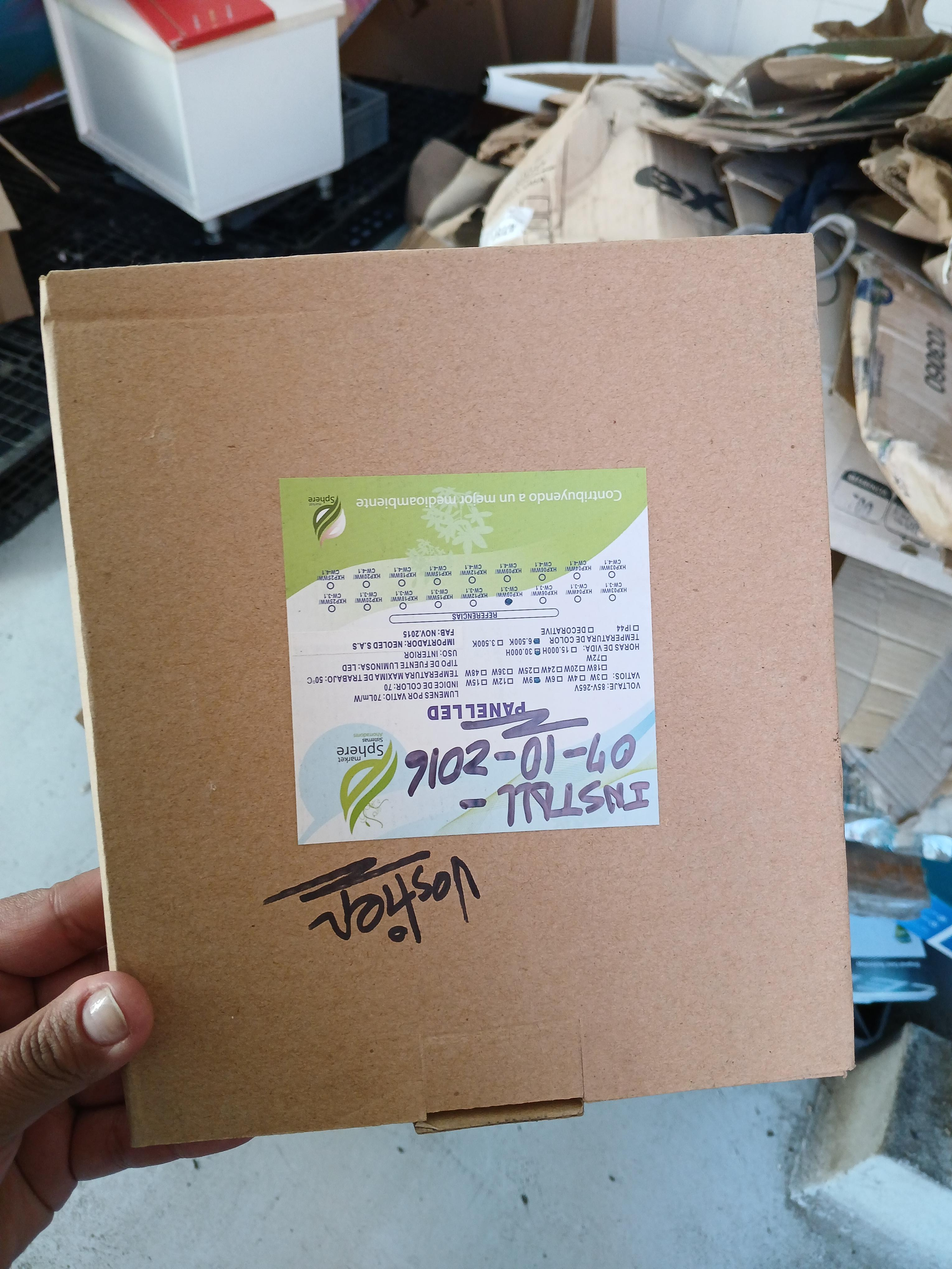Carton: (39, 235, 857, 1147)
